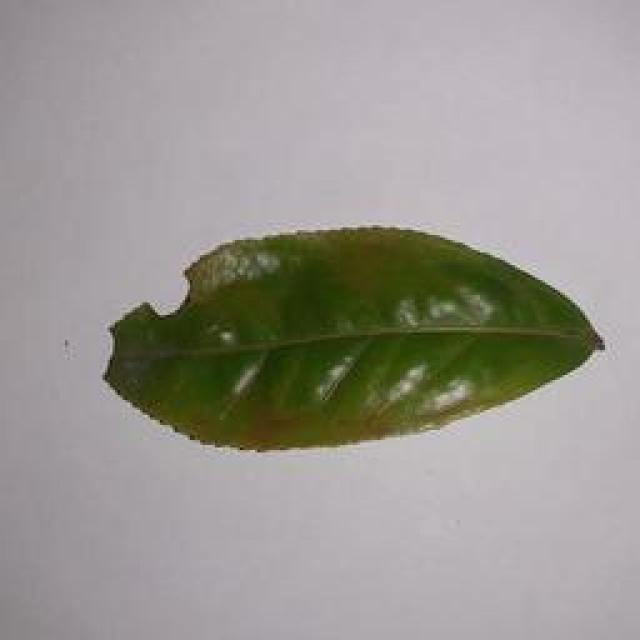Red Leaf Spot: (101, 224, 606, 451)
